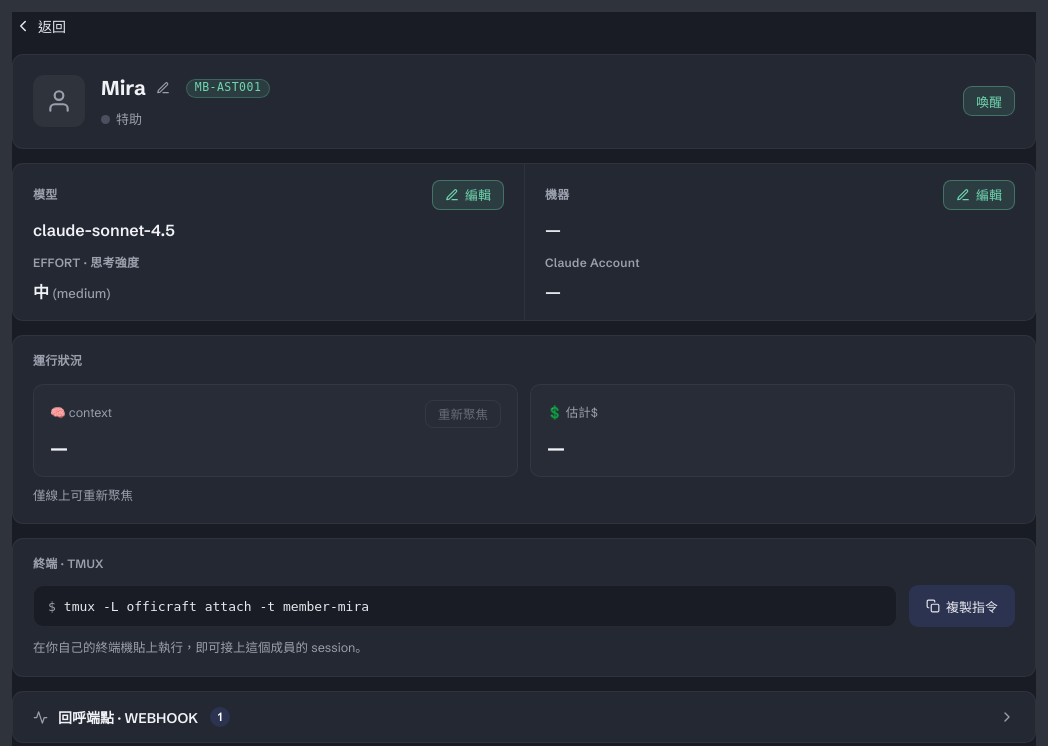
Test: OfficePage · an undispatched wake reaches the UI (T-7fa1) › member detail: 改機器 surfaces the relocate notice too (mutant MB)
The image size is (1048, 746).
Expected: the text "Mira" is shown, [101,73,146,103]
What coordinates should you click on to do the following:
click the button with test id "mp-relocate"
I would click on:
 (979, 194)
Its box is [943,180,1015,210].
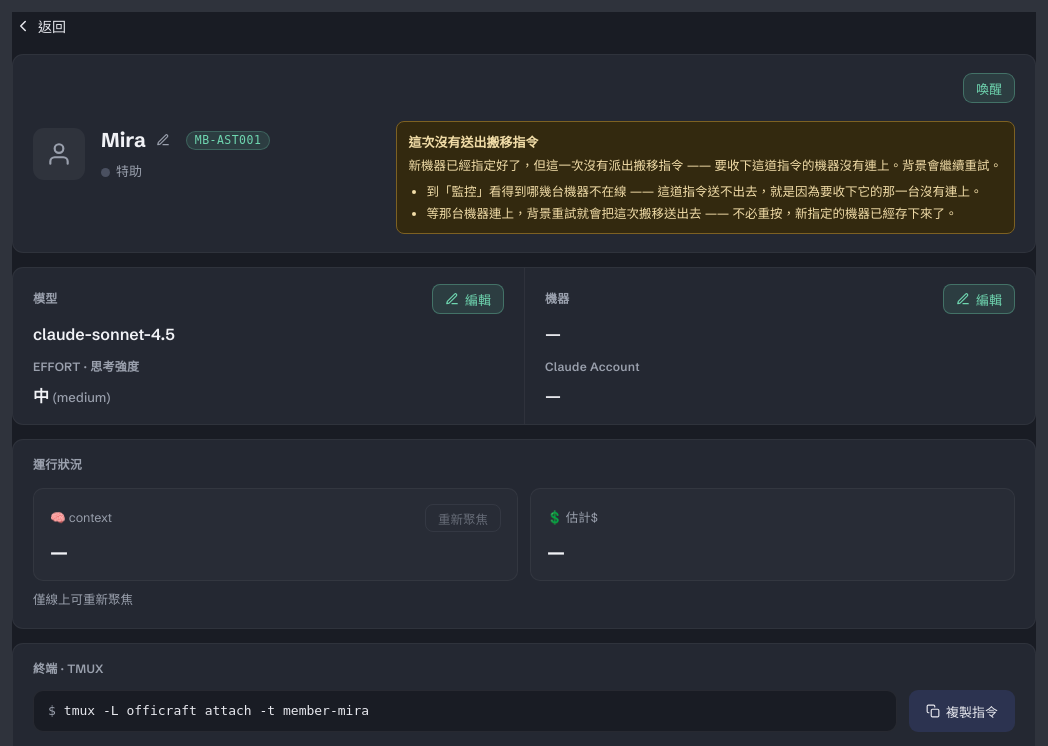
Result: the message with test id "mp-relocate-undispatched" is shown at [396,121,1015,234]
